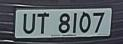0: (78, 11, 92, 35)
1: (71, 11, 80, 36)
7: (92, 11, 106, 33)
8: (57, 11, 72, 36)
T: (36, 11, 52, 37)
U: (20, 12, 37, 37)
